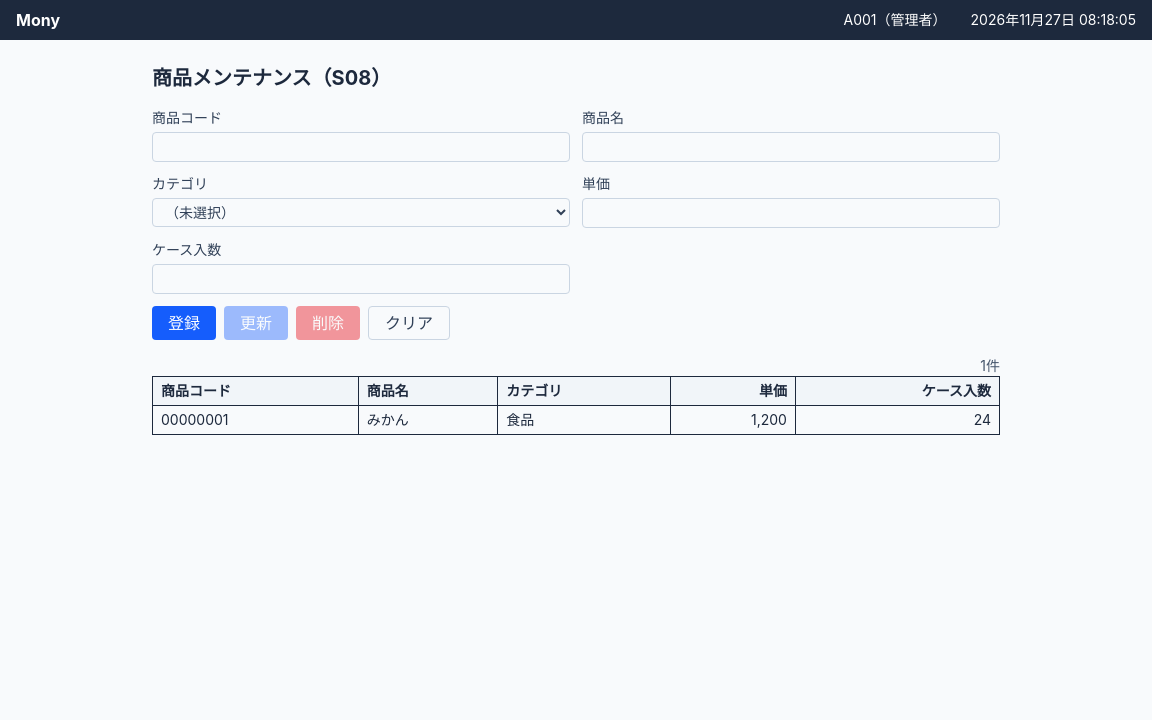
Test case: 登録 › 確認→登録→緑の完了メッセージ→一覧を再読込→入力クリア
Expected: the heading "商品メンテナンス（S08）" is shown, [152,66,391,90]
Expected: the text "みかん" is shown, [358,406,498,434]
Step 1. Type "00000003" into the field labelled "商品コード" → (361, 147), box [152,132,570,162]
Step 2. Type "たわし" into the field labelled "商品名" → (791, 147), box [582,132,1000,162]
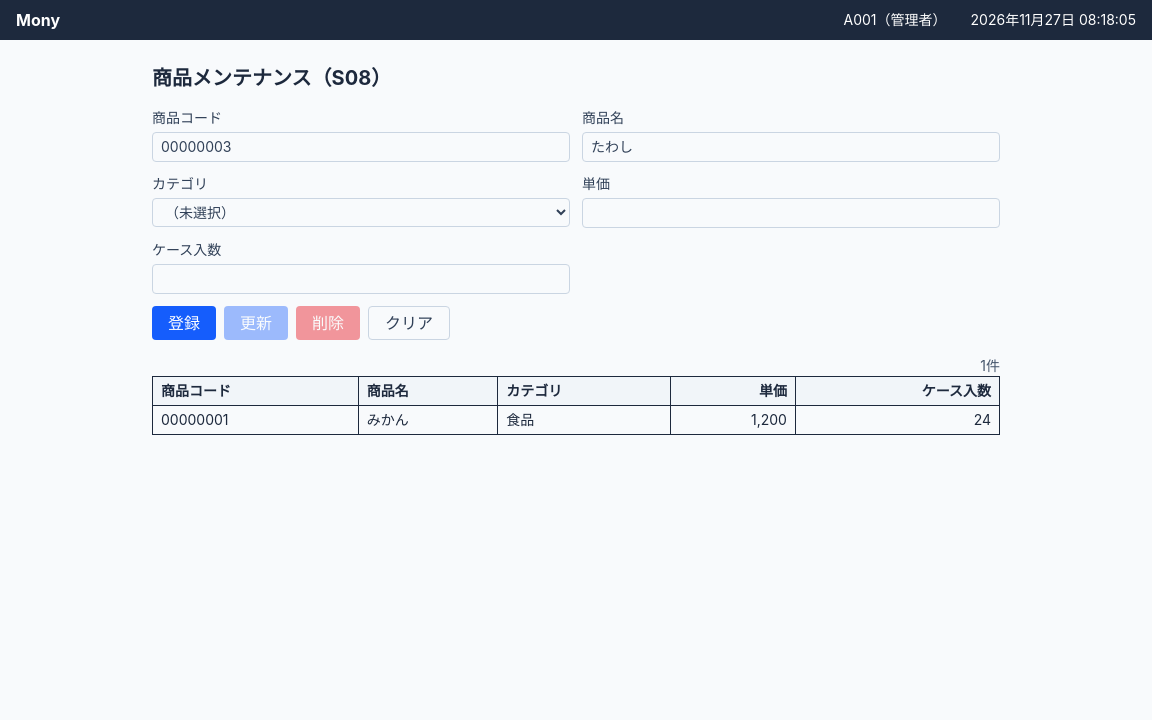
Step 3. Select "食品" in the dropdown labelled "カテゴリ" → (361, 212), box [152,198,570,227]
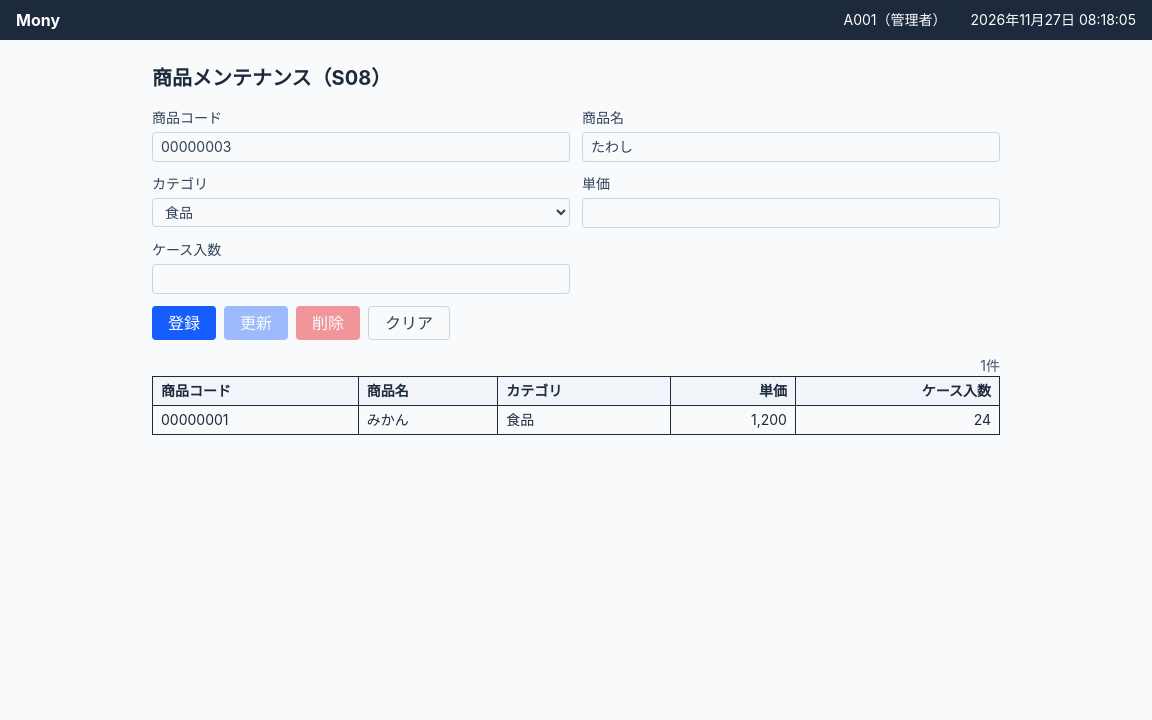
Step 4. Type "300" into the field labelled "単価" → (791, 213), box [582,198,1000,228]
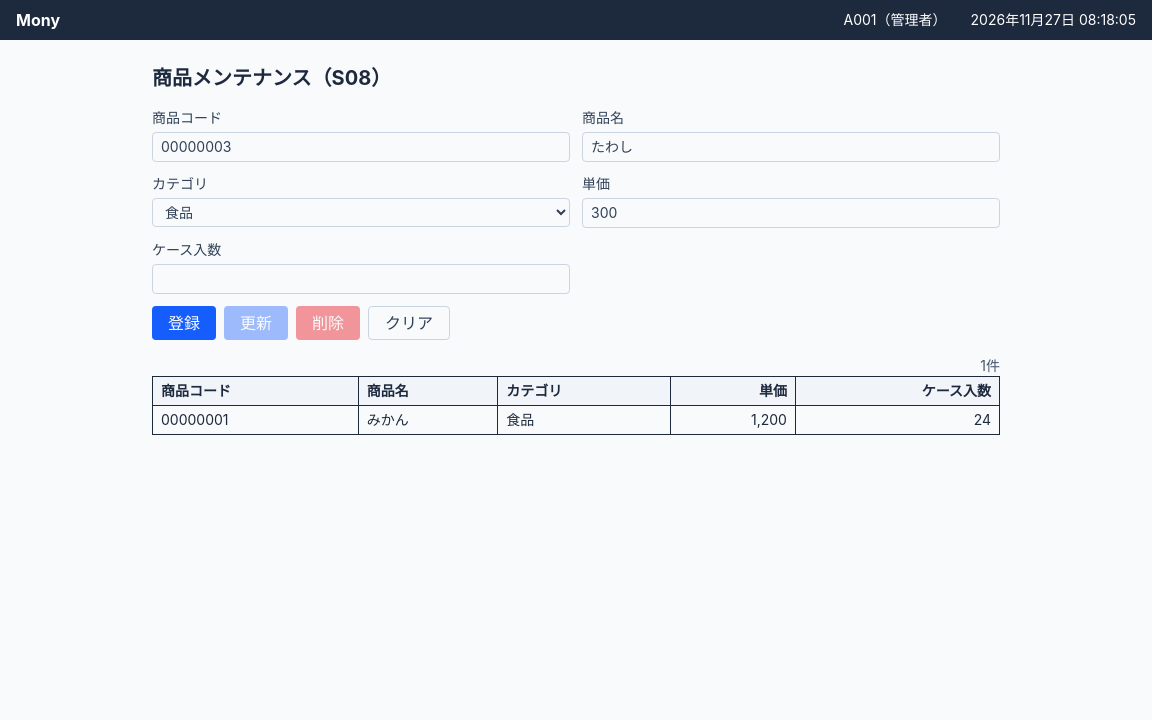
Step 5. Type "10" into the field labelled "ケース入数" → (361, 279), box [152,264,570,294]
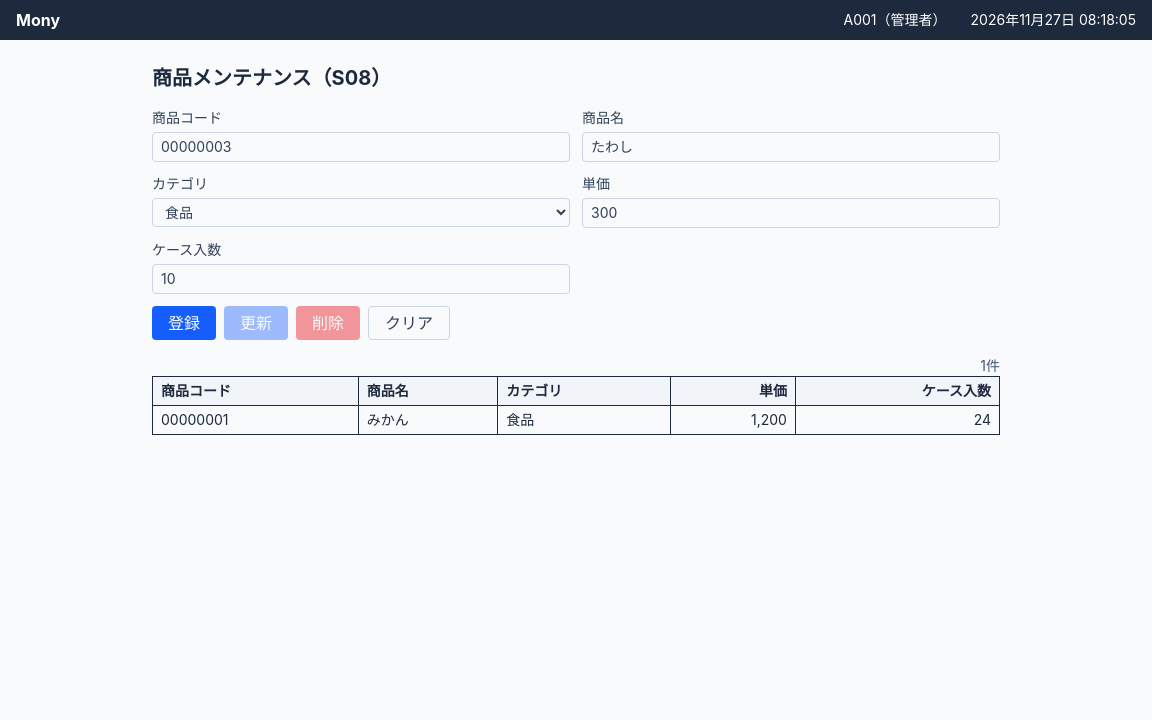
Step 6. Click the button "登録" → click(184, 323), box [152,306,216,340]
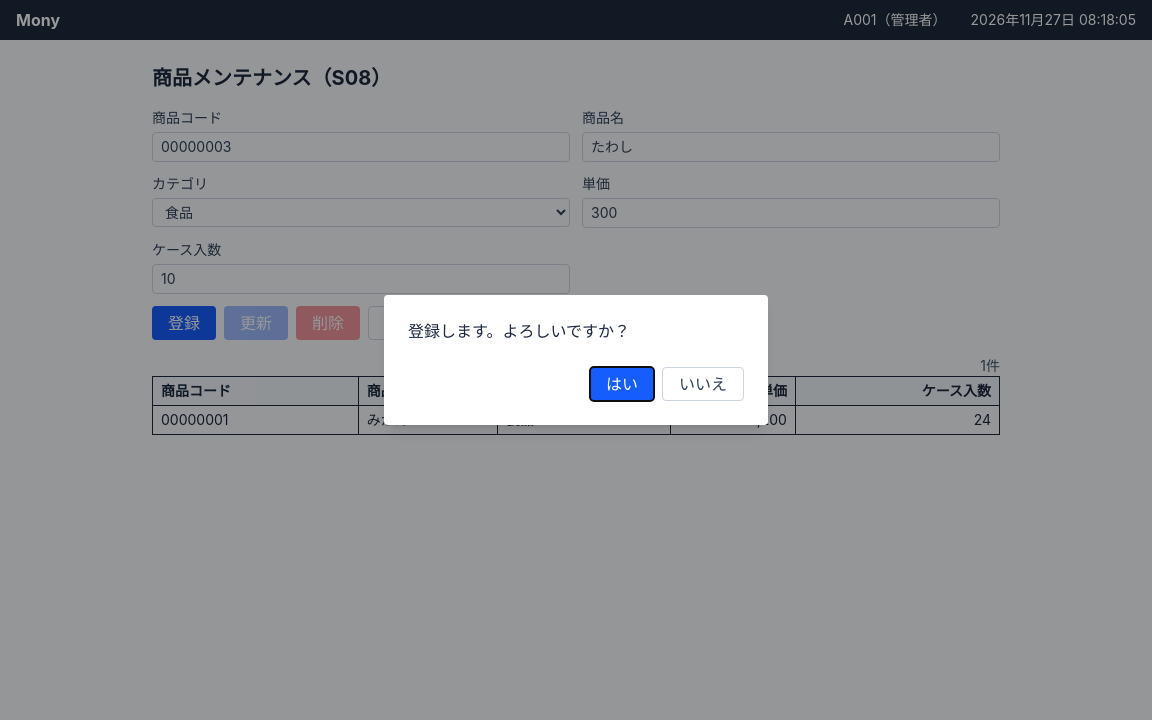
Expected: the dialog shows "登録します。よろしいですか？", [408,321,630,341]
Step 7. Click the button "はい" → click(622, 384), box [590,367,654,401]
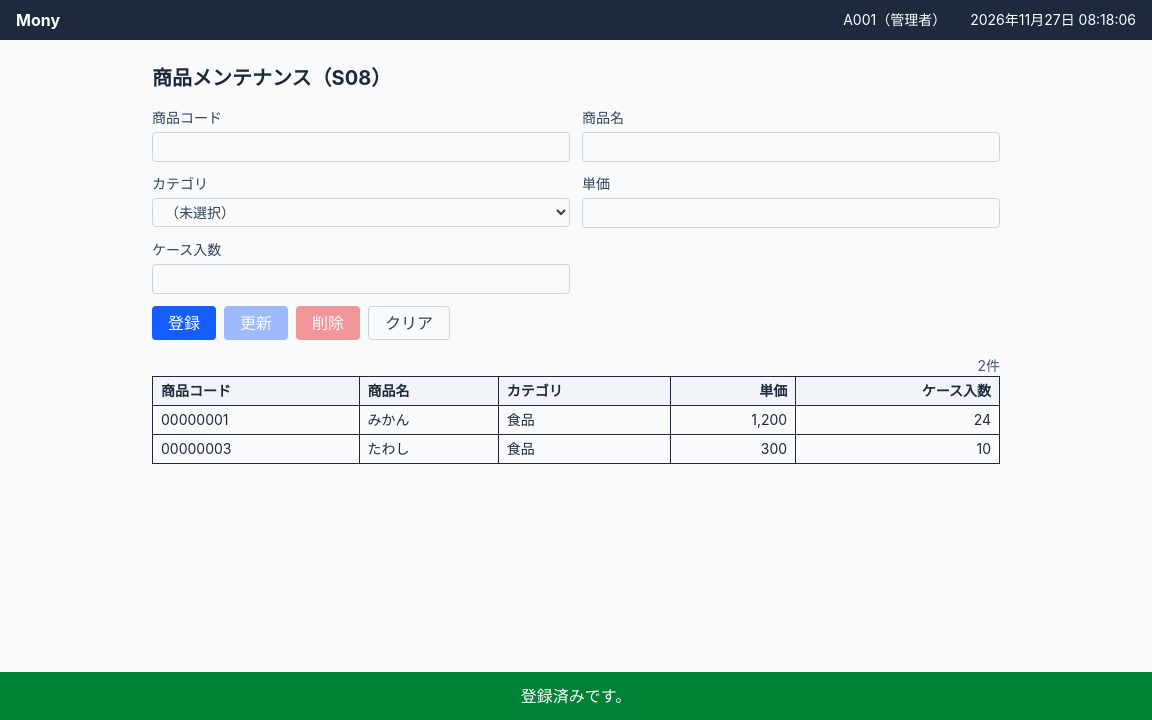
Expected: the message reads "登録済みです。", [521,686,631,706]
Expected: the text "たわし" is shown, [359,434,498,464]
Expected: the text "2件" is shown, [978,357,1000,374]
